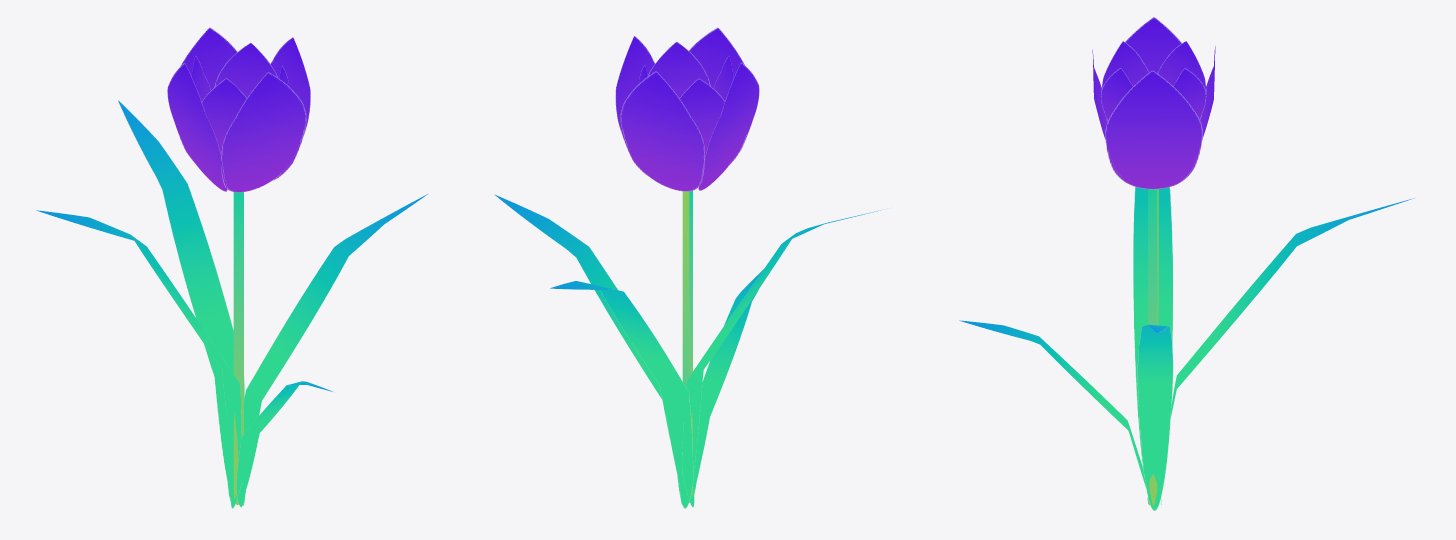
File: Flowers_n02_20.fbx
3 renders of one model, left to right at view 1: azimuth 30°, elevation 25°; view 2: azimuth 150°, elevation 25°; view 3: azimuth 270°, elevation 25°, orthographic.
Parts seen in each view (by area): view 1: polySurface304; view 2: polySurface304; view 3: polySurface304.
Part boxes in pixels (x1,y1,x2,y2): polySurface304: [36, 27, 428, 508]; polySurface304: [494, 27, 887, 508]; polySurface304: [959, 17, 1414, 510].
Bounding box in the file's own units: 39.79 × 41.63 × 38.83.
Materials: 1 (1 with a texture image).
